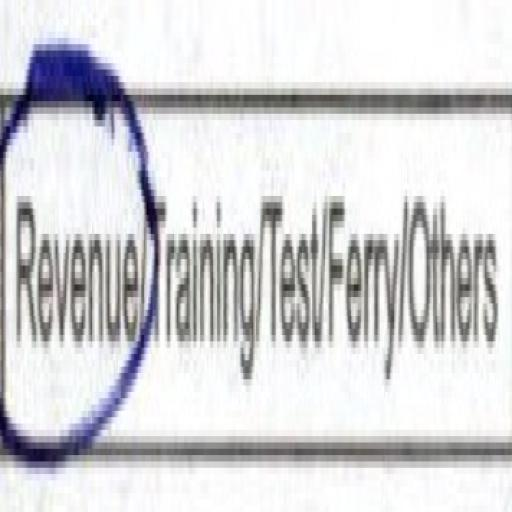check: (0, 6, 151, 506)
